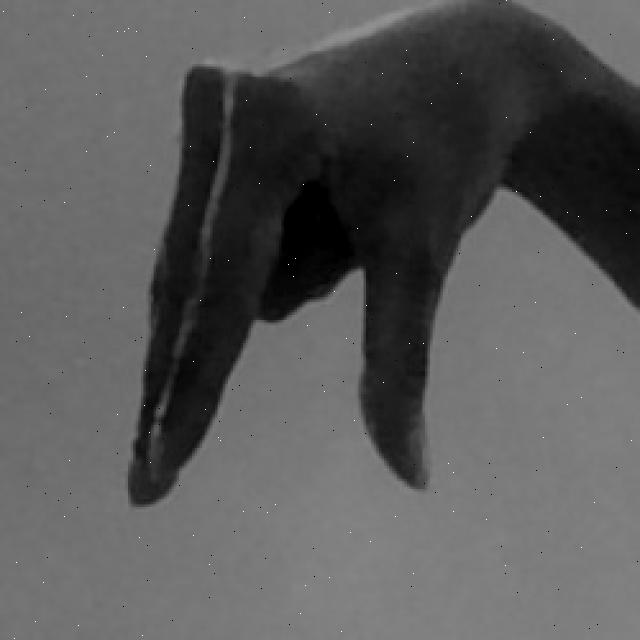Q: (118, 0, 640, 512)
